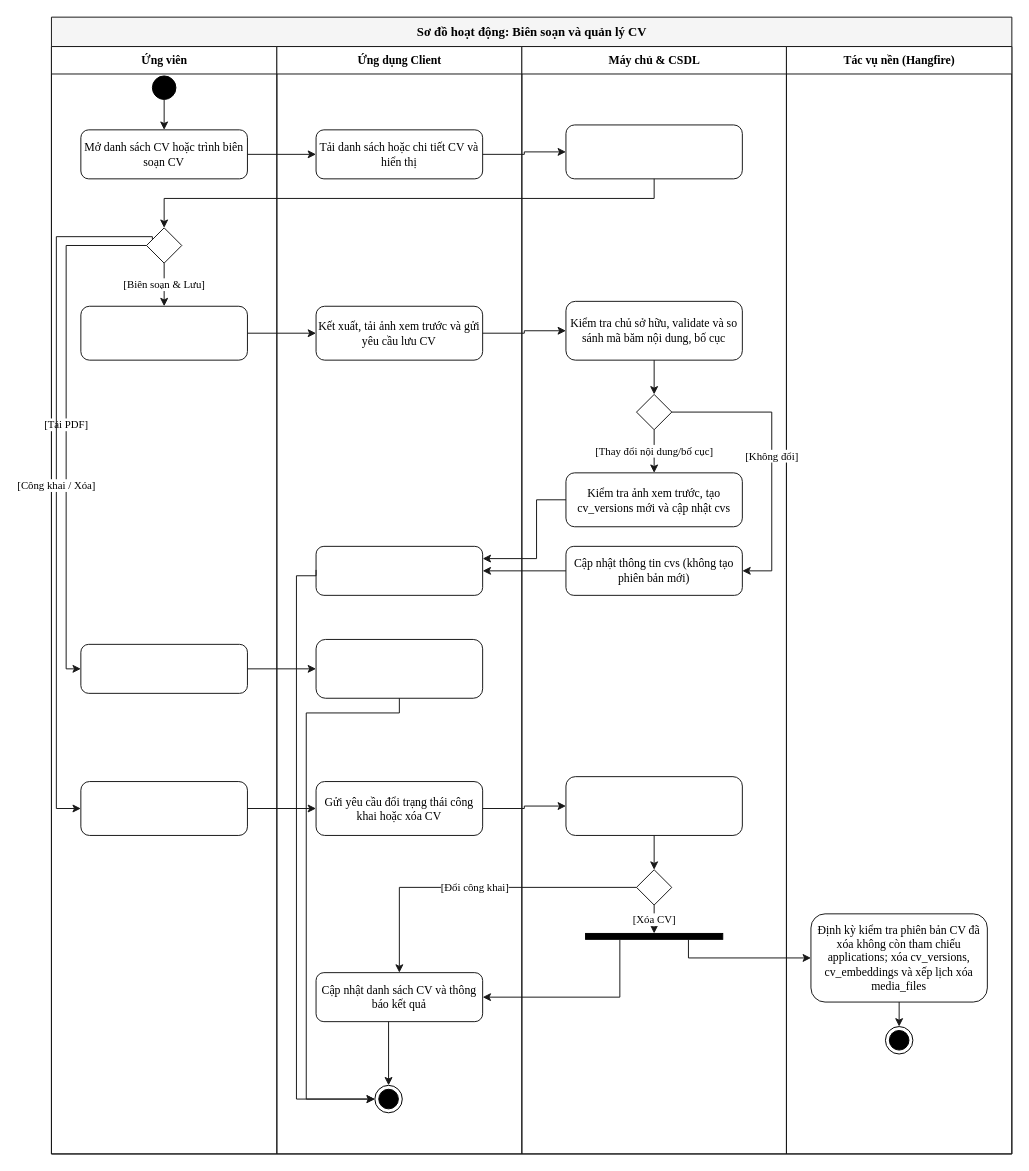
Image size: 1029x1171. Some labels were removed from this diagram. Each missing label, with the centre of its shape:
"Chỉnh sửa nội dung, bố cục (hoàn tác/làm lại) và nhấn Lưu" goes at point 163,332.
"Cập nhật trạng thái đã lưu trên giao diện" goes at point 399,570.
"Kiểm tra chủ sở hữu; cập nhật công khai hoặc ghi thời điểm xóa vào cvs" goes at point 653,805.
"Kiểm tra quyền (công khai hoặc chủ sở hữu) và trả dữ liệu CV" goes at point 653,151.
"Kết xuất bố cục và mở hộp thoại in hoặc lưu PDF của trình duyệt" goes at point 399,668.
"Nhấn nút Tải PDF trên danh sách hoặc bản xem trước" goes at point 163,668.
"Đổi công tắc công khai hoặc xác nhận xóa CV" goes at point 163,808.
